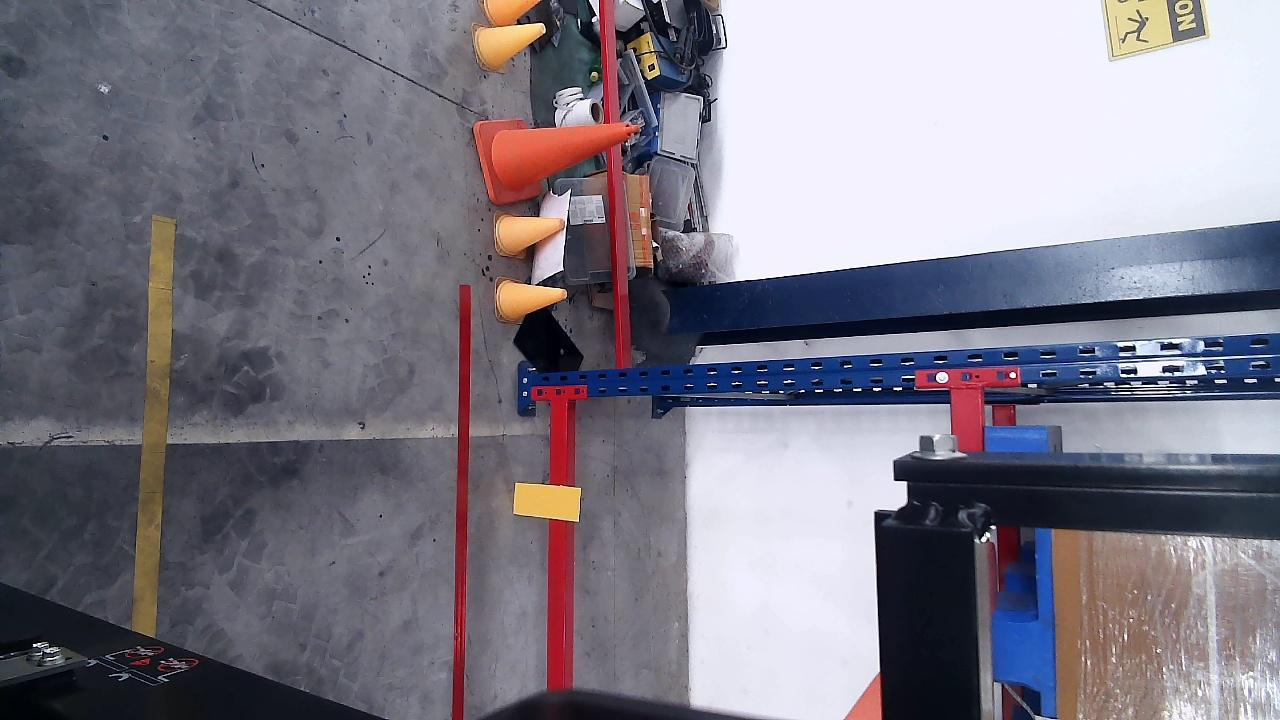h_rack: (548, 400, 565, 689)
orange_strip: (514, 480, 581, 523)
red_line: (453, 286, 470, 720)
yellow_line: (133, 213, 177, 638)
